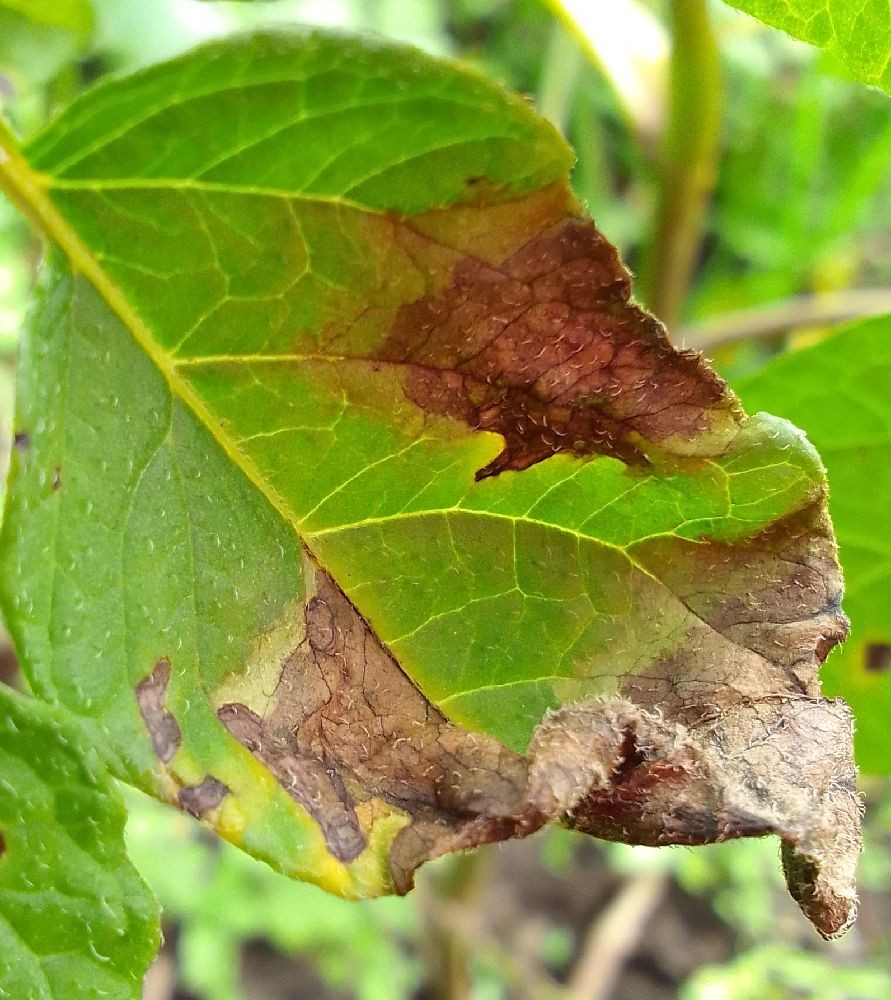late_blight: (114, 469, 890, 999), (219, 34, 891, 546)
